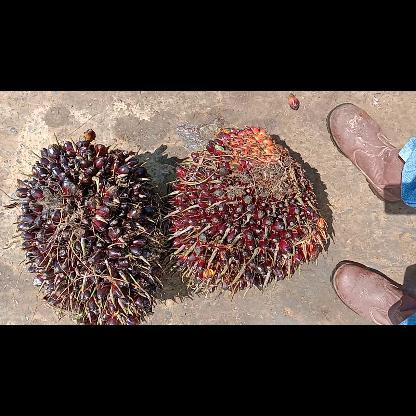TBS mentah: (11, 128, 167, 324), (164, 126, 330, 294)
